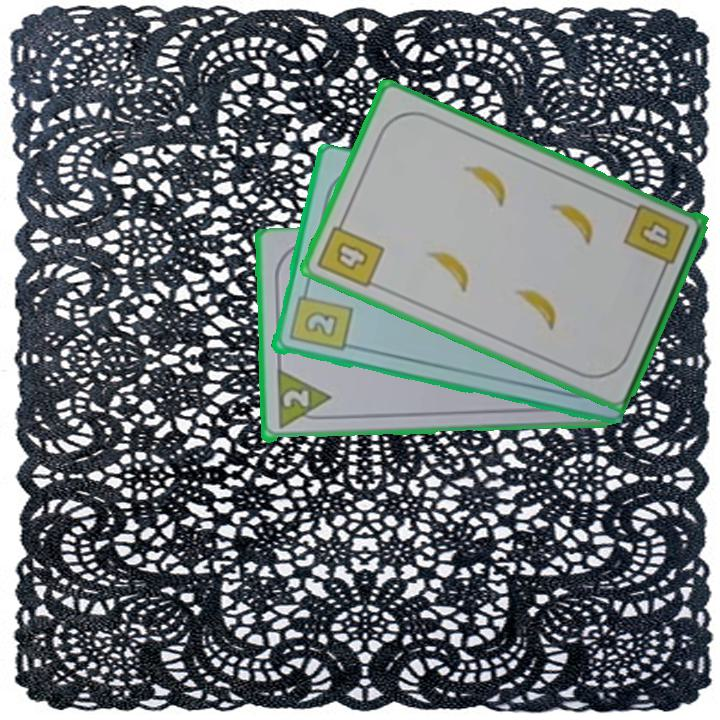2b: (285, 284, 354, 355)
2p: (273, 369, 334, 432)
4b: (313, 213, 387, 291), (620, 200, 692, 278)
